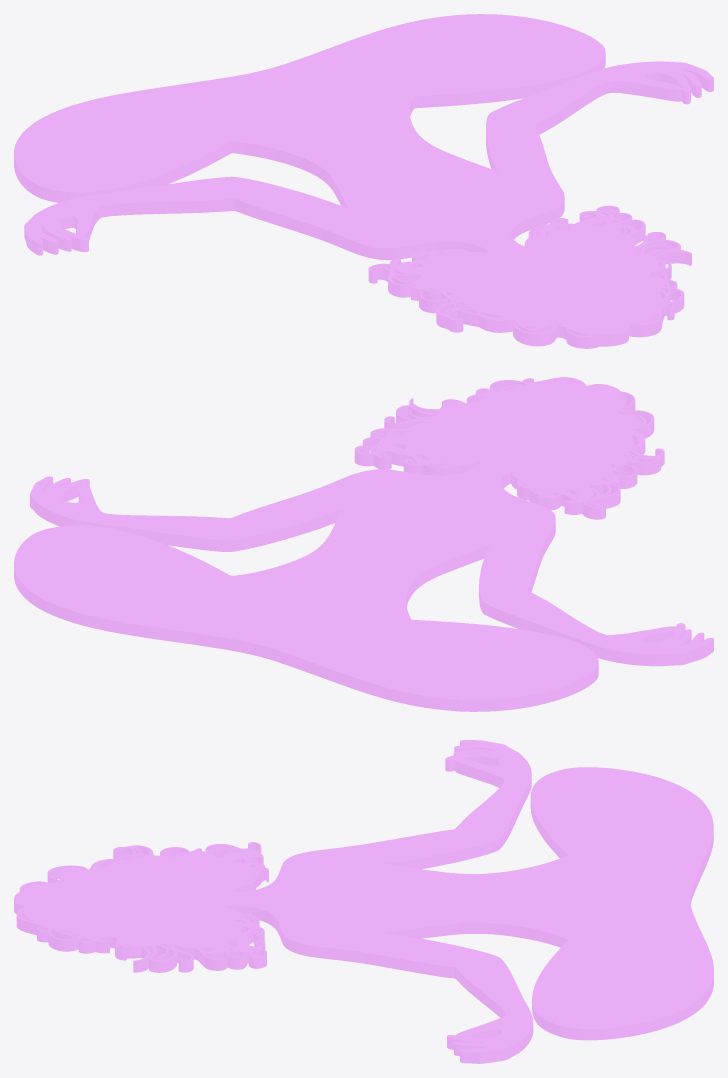
Rendered from MEDITATE.glb.
3 renders of one model, top to bottom at view 1: azimuth 30°, elevation 25°; view 2: azimuth 150°, elevation 25°; view 3: azimuth 270°, elevation 25°, orthographic. The views are drawn at different scales.
Visible parts, largest first — view 1: MEDITATE; view 2: MEDITATE; view 3: MEDITATE.
Boxes of the visible parts, bbox=[...] form: MEDITATE: bbox=[14, 14, 713, 348]; MEDITATE: bbox=[14, 377, 713, 711]; MEDITATE: bbox=[14, 740, 713, 1063].
Size of the model in its own units: 0.1789 by 0.003 by 0.1693.
